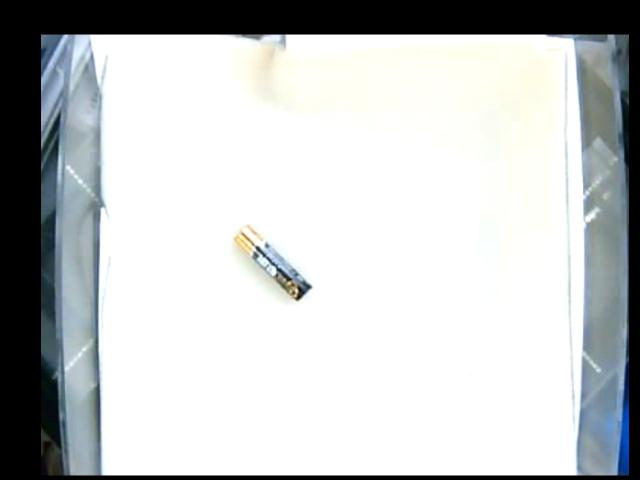Battery: (235, 225, 317, 300)
